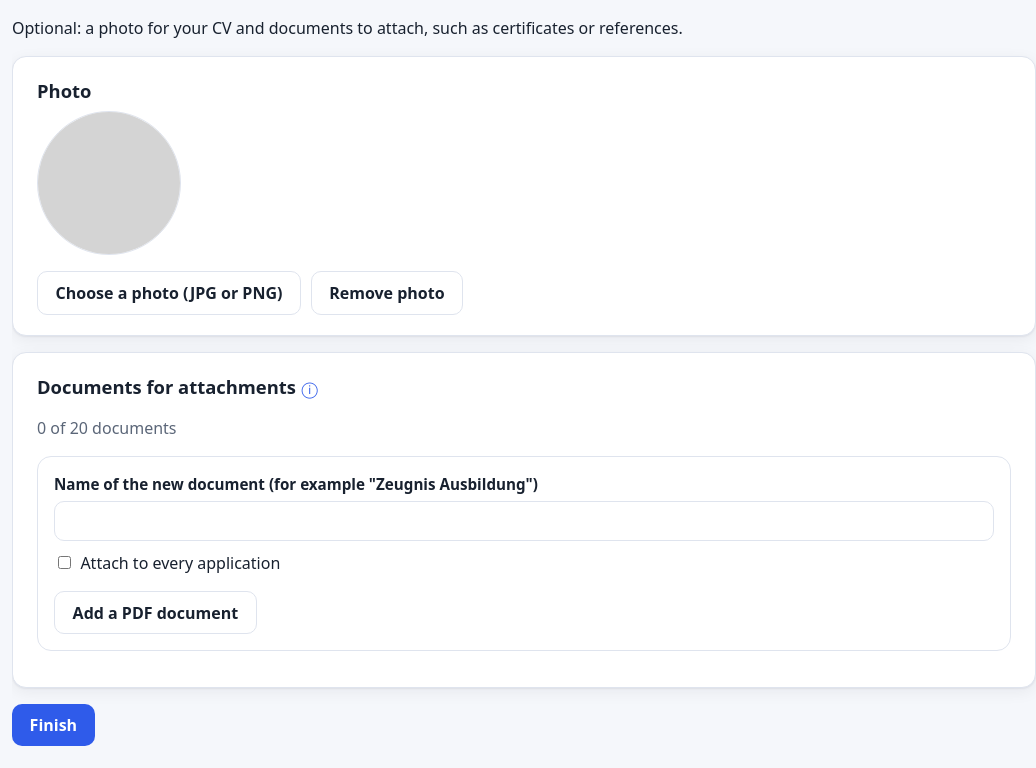
Test: FilesStep › removes the photo
Click the button "Remove photo": (387,293) [311,271,463,315]
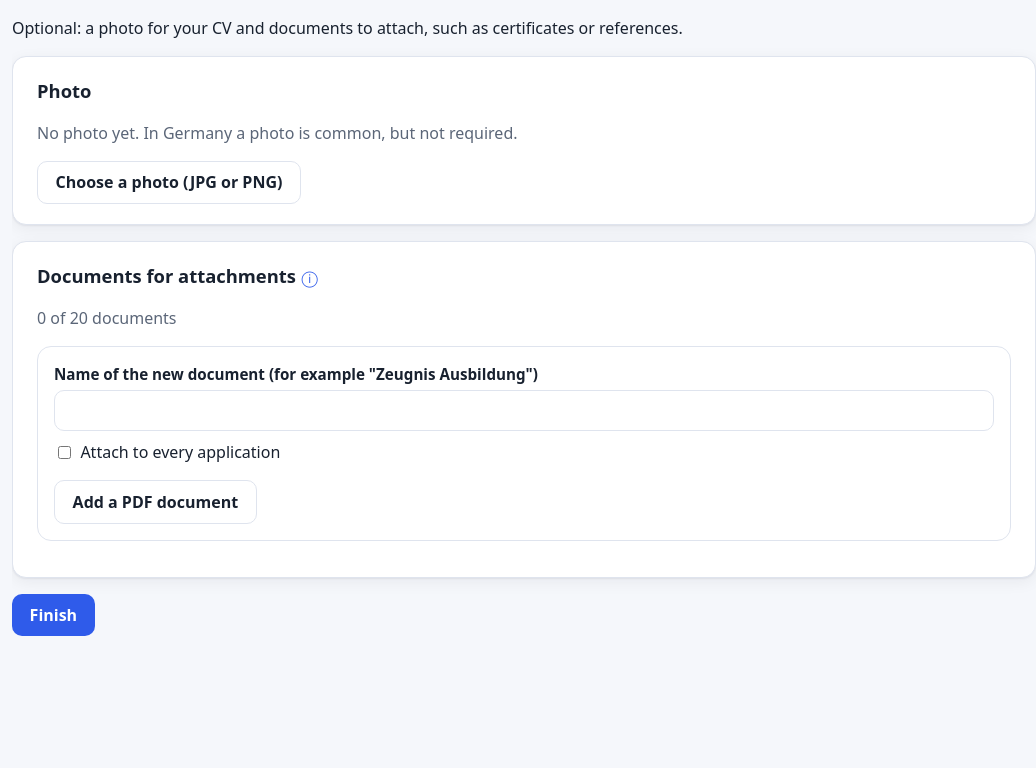
Check: the text "No photo yet" is shown, box [37,122,518,144]
